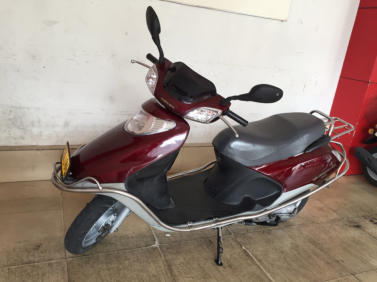motor: (47, 42, 345, 257)
